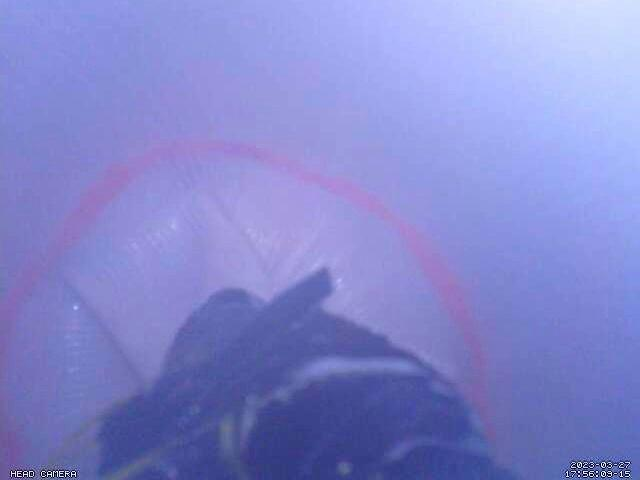head: (1, 138, 498, 480)
